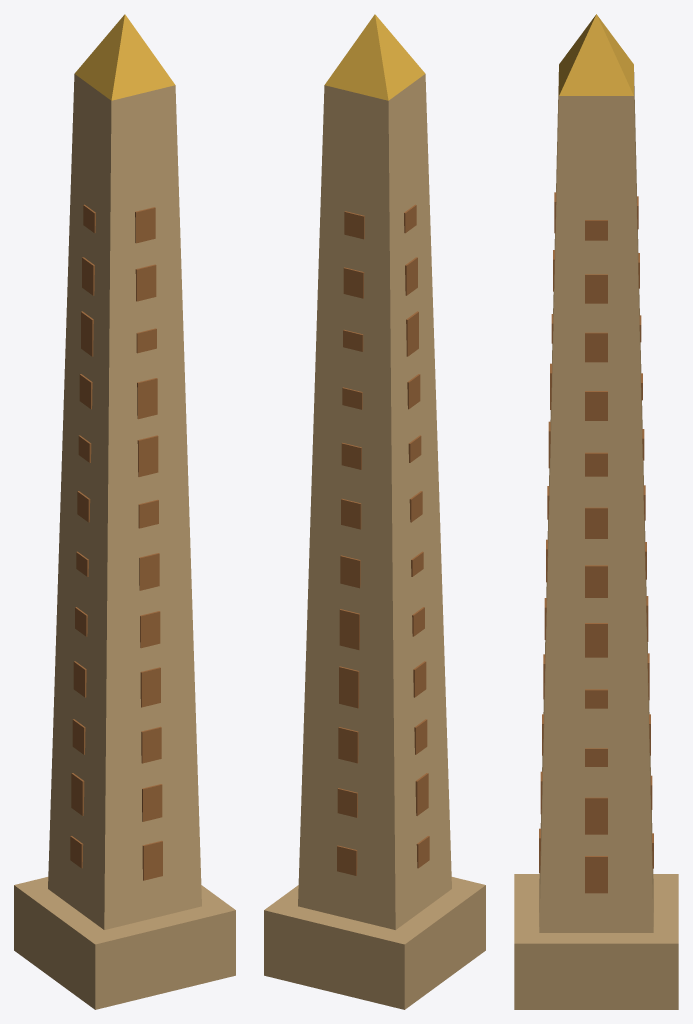
The model's file is obelisk.glb.
The picture shows the model from 3 angles, left to right: view 1: azimuth 30°, elevation 25°; view 2: azimuth 150°, elevation 25°; view 3: azimuth 270°, elevation 25°; orthographic projection.
Parts seen in each view (by area): view 1: obelisk; view 2: obelisk; view 3: obelisk.
Boxes of the visible parts, bbox=[...] form: obelisk: bbox=[14, 14, 235, 1009]; obelisk: bbox=[264, 14, 485, 1009]; obelisk: bbox=[514, 14, 678, 1009].
Bounding box in the file's own units: 3.6 × 23.2 × 3.6.
